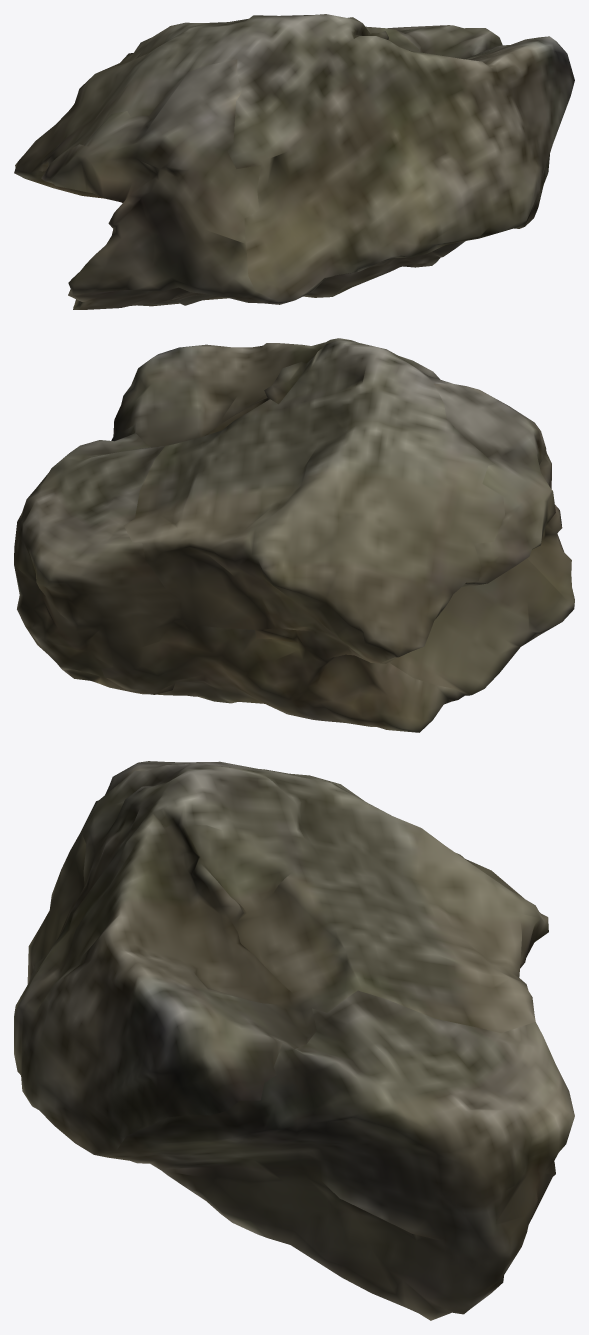
The picture shows the model from 3 angles, top to bottom: view 1: azimuth 30°, elevation 25°; view 2: azimuth 150°, elevation 25°; view 3: azimuth 270°, elevation 25°; orthographic projection. The views are drawn at different scales.
Parts seen in each view (by area): view 1: rock_moss_set_02__e_lod1; view 2: rock_moss_set_02__e_lod1; view 3: rock_moss_set_02__e_lod1.
Boxes of the visible parts, x1=… form: rock_moss_set_02__e_lod1: x1=14, y1=14, x2=574, y2=309; rock_moss_set_02__e_lod1: x1=14, y1=338, x2=574, y2=732; rock_moss_set_02__e_lod1: x1=14, y1=761, x2=574, y2=1320.
Size of the model in its own units: 1.95 by 1.31 by 1.53.
1 material, 1 textured.
